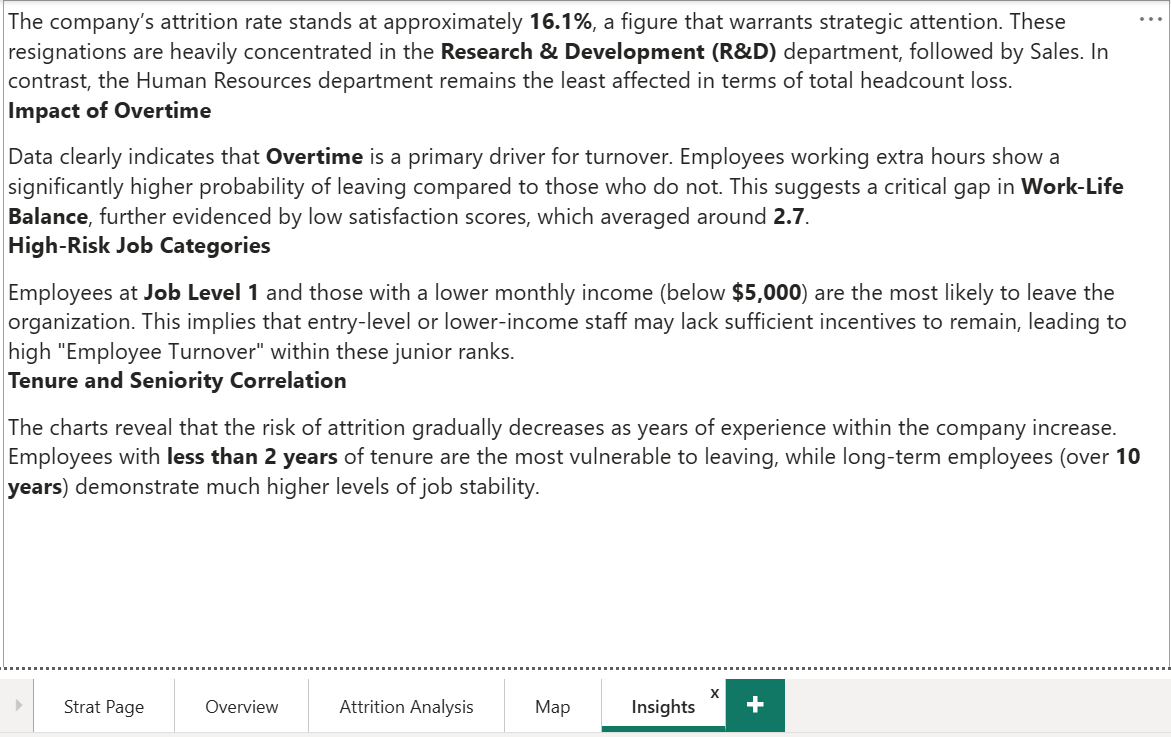

The page's visual inventory and layout, read from the dashboard file:
{"tool":"powerbi","page":{"name":"Insights","canvas":[1280,720],"ordinal":4},"visuals":[{"type":"textbox","box":[9.7,0,1259.8,720.6],"z":0}]}

Visuals, with their boxes on the page's 1280x720 design canvas (x1, y1, x2, y2). These are canvas units, not pixel positions in the 1171x737 screenshot, which may show the page scaled, cropped or inside an application window:
textbox: locate(10, 0, 1270, 721)
